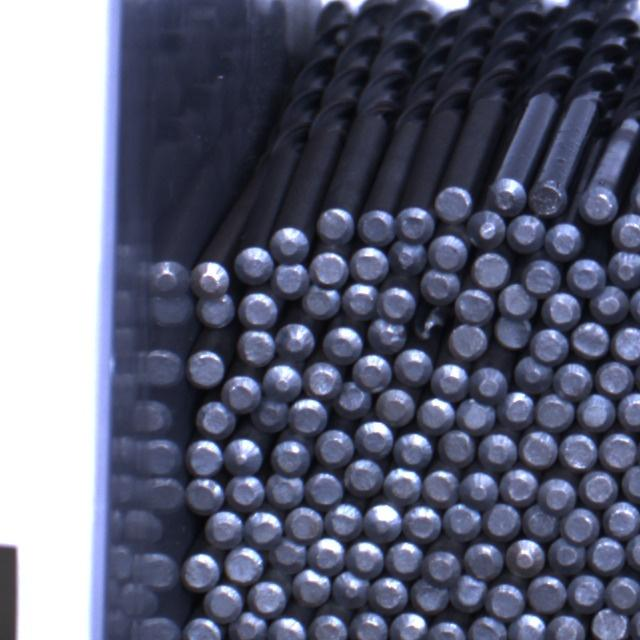tool: (362, 501, 402, 542), (182, 550, 221, 591), (553, 362, 593, 401), (504, 536, 544, 575), (526, 573, 566, 612), (225, 545, 265, 584), (344, 456, 383, 496), (458, 470, 498, 509), (588, 285, 628, 324), (323, 324, 363, 363), (580, 185, 620, 224), (291, 568, 330, 607), (187, 347, 226, 386), (518, 429, 557, 468), (223, 373, 262, 412), (262, 362, 301, 401), (235, 246, 274, 285), (435, 184, 474, 223), (506, 214, 546, 252), (464, 541, 504, 579), (375, 386, 415, 424), (454, 396, 494, 434), (567, 258, 607, 296), (205, 583, 245, 621), (344, 538, 384, 576), (315, 428, 355, 466), (247, 579, 288, 616), (268, 436, 310, 472), (500, 467, 538, 506), (535, 391, 574, 429), (578, 469, 617, 507), (560, 431, 598, 470), (184, 476, 223, 514), (432, 360, 470, 399), (599, 432, 638, 470), (287, 397, 326, 435), (403, 504, 442, 542), (567, 574, 605, 613), (477, 432, 516, 470), (204, 509, 243, 547), (225, 436, 264, 474), (514, 354, 553, 392), (332, 570, 371, 608), (238, 329, 277, 367), (395, 346, 434, 384), (277, 321, 316, 359), (332, 380, 371, 418), (497, 390, 535, 429), (469, 366, 508, 404), (318, 205, 356, 244), (440, 502, 480, 539), (394, 430, 434, 467), (571, 321, 611, 358), (244, 508, 284, 545), (409, 576, 449, 613), (396, 204, 436, 241), (546, 222, 584, 260), (521, 503, 559, 541), (353, 353, 391, 391), (385, 540, 423, 578), (303, 359, 341, 397), (358, 208, 396, 246), (602, 501, 639, 540), (537, 476, 576, 513), (485, 581, 524, 618), (481, 502, 520, 539), (423, 468, 460, 507), (325, 502, 364, 539), (378, 283, 417, 320), (388, 237, 427, 274), (430, 232, 470, 268), (420, 267, 460, 303), (367, 317, 407, 353), (577, 392, 615, 429), (472, 251, 510, 288), (369, 575, 407, 612), (417, 396, 454, 434), (356, 420, 394, 457), (524, 258, 562, 295), (352, 244, 389, 282), (587, 537, 625, 574), (187, 438, 224, 476), (310, 537, 348, 574), (498, 281, 536, 318), (240, 290, 278, 327), (225, 474, 263, 511), (266, 471, 304, 508), (561, 508, 600, 544), (448, 322, 487, 358), (547, 536, 586, 572), (197, 292, 236, 328), (470, 209, 507, 246), (544, 290, 582, 326), (385, 465, 423, 501), (596, 360, 634, 396), (198, 401, 236, 437), (452, 572, 488, 610), (268, 538, 306, 574), (491, 178, 527, 216), (530, 178, 566, 216), (301, 284, 340, 319), (530, 327, 567, 363), (438, 430, 475, 466), (605, 574, 640, 612), (284, 507, 322, 542), (305, 471, 343, 506), (455, 287, 493, 322), (192, 260, 230, 295), (422, 548, 461, 582), (272, 226, 308, 262), (311, 250, 348, 285), (343, 280, 378, 317), (252, 396, 289, 431), (272, 262, 308, 297), (592, 607, 630, 640), (494, 316, 532, 349), (608, 250, 640, 288), (227, 611, 266, 640), (506, 612, 546, 640), (308, 612, 348, 640), (350, 611, 388, 640), (391, 611, 429, 640), (612, 324, 640, 362), (546, 613, 585, 640), (268, 614, 307, 640), (466, 615, 506, 640), (184, 615, 224, 640), (614, 213, 640, 250), (617, 391, 640, 430), (428, 619, 466, 640), (621, 466, 640, 504), (625, 531, 640, 571), (629, 284, 640, 324), (629, 605, 640, 640), (633, 358, 640, 395)
tool_b: (412, 304, 448, 342)
